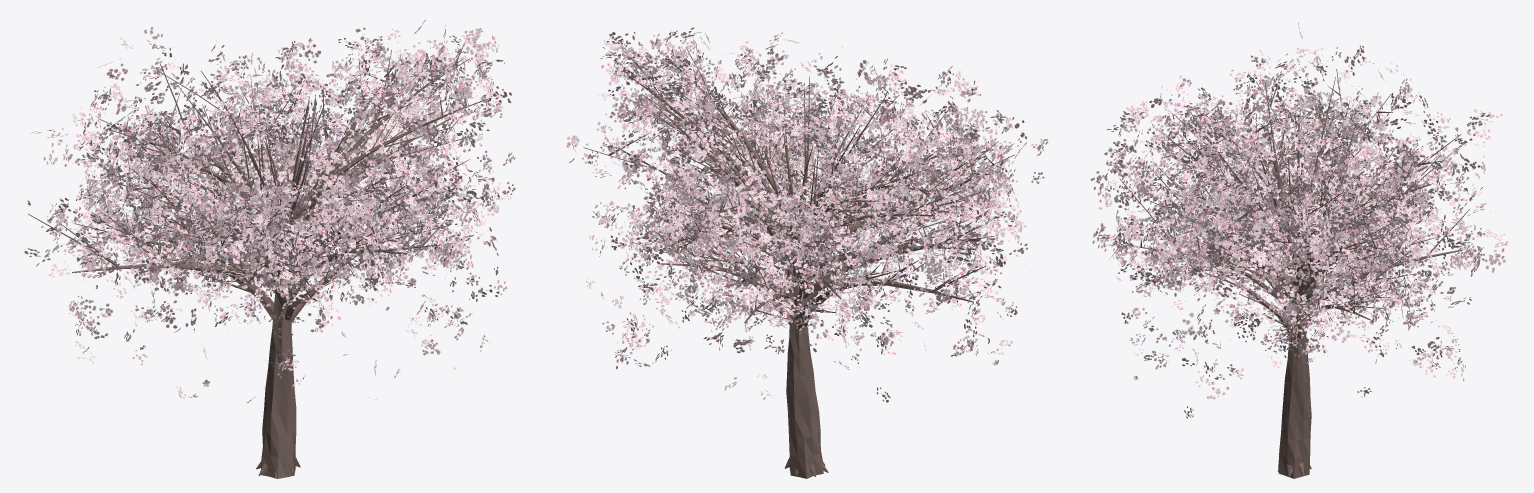
File: Sakura_Cherry_Blossom_Tree_Lite.glb
3 views of the same model, side by side, from view 1: azimuth 30°, elevation 25°; view 2: azimuth 150°, elevation 25°; view 3: azimuth 270°, elevation 25° (orthographic). The views are drawn at different scales.
Parts seen in each view (by area): view 1: Pink_Blossom_Sprays, Bark_And_Branches, Five_Petal_Flowers; view 2: Pink_Blossom_Sprays, Bark_And_Branches, Five_Petal_Flowers; view 3: Pink_Blossom_Sprays, Bark_And_Branches, Five_Petal_Flowers.
Part boxes in pixels (bbox=[...]): Pink_Blossom_Sprays: bbox=[24, 19, 515, 402]; Bark_And_Branches: bbox=[28, 38, 490, 478]; Five_Petal_Flowers: bbox=[27, 36, 504, 386]; Pink_Blossom_Sprays: bbox=[566, 27, 1048, 402]; Bark_And_Branches: bbox=[583, 47, 1014, 478]; Five_Petal_Flowers: bbox=[569, 33, 1048, 374]; Pink_Blossom_Sprays: bbox=[1090, 22, 1507, 418]; Bark_And_Branches: bbox=[1119, 69, 1469, 478]; Five_Petal_Flowers: bbox=[1093, 53, 1490, 380].
Bounding box in the file's own units: 5.06 × 4.5 × 4.53.
Materials: 1 (1 with a texture image).
